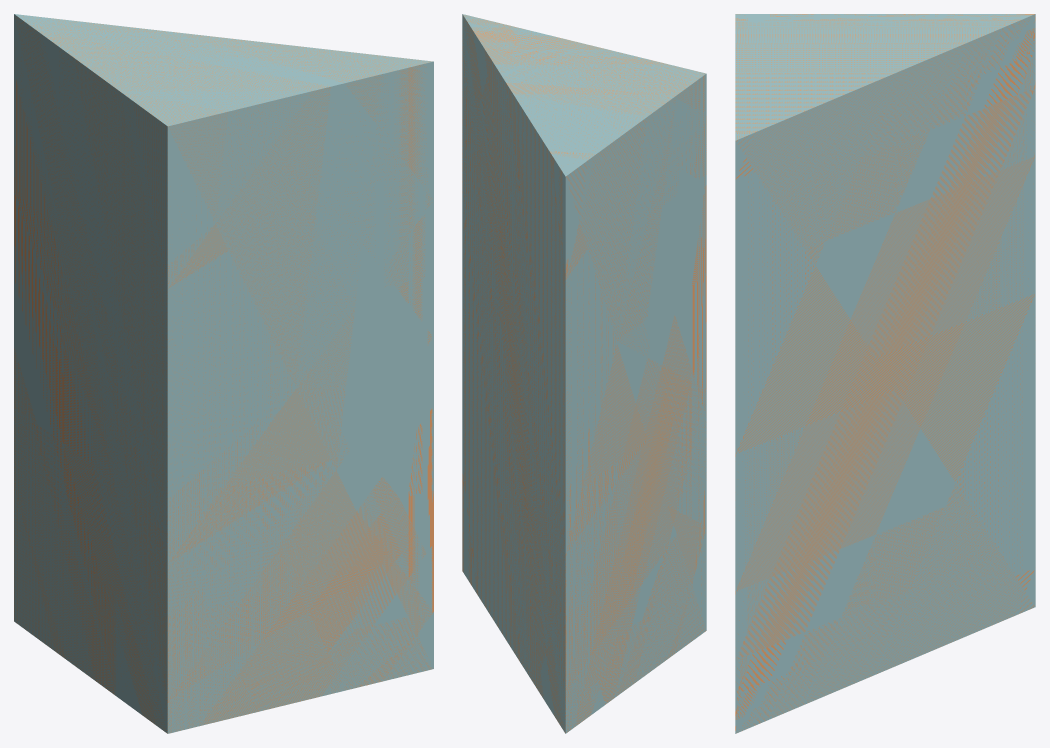
File: cliffGrey_cornerMid.obj
3 views of the same model, side by side, from view 1: azimuth 30°, elevation 25°; view 2: azimuth 150°, elevation 25°; view 3: azimuth 270°, elevation 25° (orthographic). The views are drawn at different scales.
Visible parts, largest first — view 1: cliffGrey_cornerMid; view 2: cliffGrey_cornerMid; view 3: cliffGrey_cornerMid.
Part boxes in pixels (<box>): cliffGrey_cornerMid: <box>14,14,433,733</box>; cliffGrey_cornerMid: <box>462,14,706,733</box>; cliffGrey_cornerMid: <box>735,14,1035,733</box>.
Size of the model in its own units: 4.58 by 10 by 4.58.
